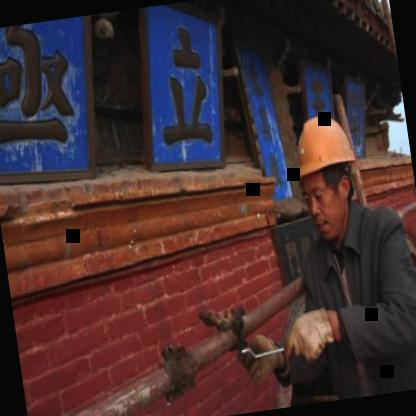helmet: (282, 101, 374, 245)
